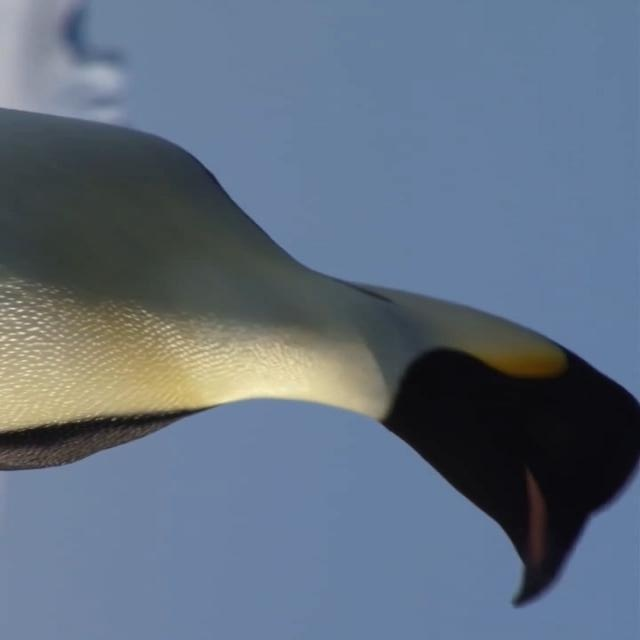penguin: (4, 103, 638, 610)
